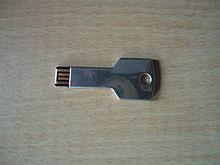Flash-drive: (49, 56, 186, 112)
